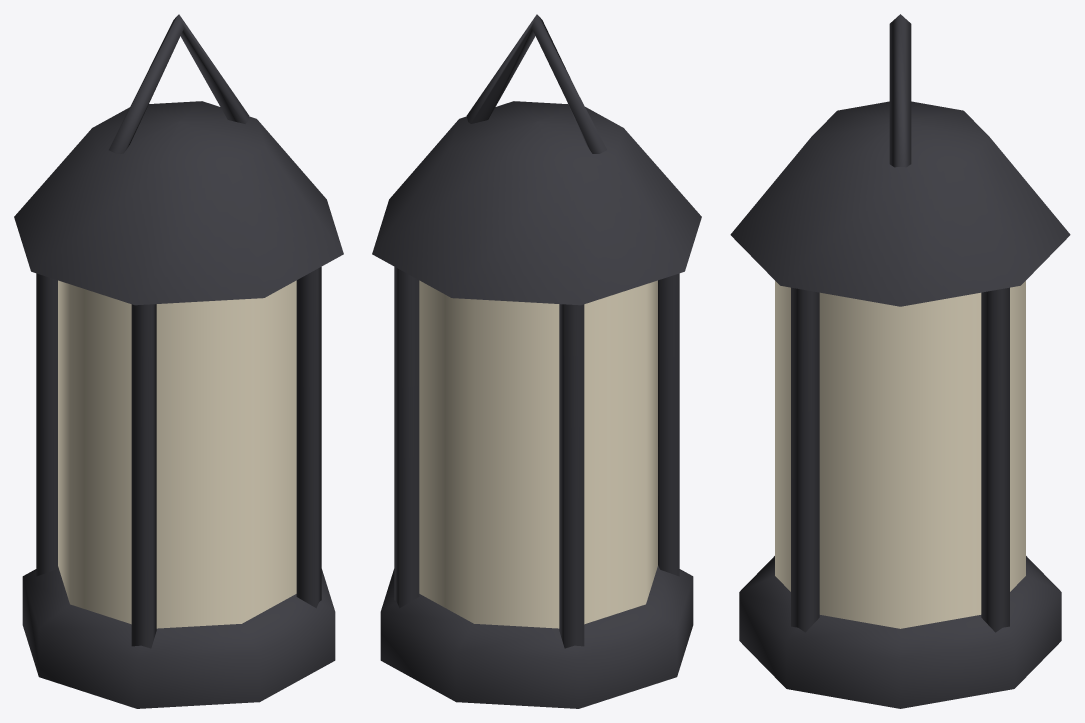
The model's file is furn_keeper_lantern.glb.
3 renders of one model, left to right at view 1: azimuth 30°, elevation 25°; view 2: azimuth 150°, elevation 25°; view 3: azimuth 270°, elevation 25°, orthographic.
Visible parts, largest first — view 1: furn_keeper_lantern_main, furn_keeper_lantern_clear; view 2: furn_keeper_lantern_main, furn_keeper_lantern_clear; view 3: furn_keeper_lantern_main, furn_keeper_lantern_clear.
Boxes of the visible parts, x1,y1,x2,y2 form: furn_keeper_lantern_main: (14, 14, 343, 708); furn_keeper_lantern_clear: (58, 280, 296, 628); furn_keeper_lantern_main: (372, 14, 701, 708); furn_keeper_lantern_clear: (419, 280, 657, 628); furn_keeper_lantern_main: (730, 14, 1070, 708); furn_keeper_lantern_clear: (775, 281, 1025, 628).
Size of the model in its own units: 0.19 by 0.386 by 0.19.
